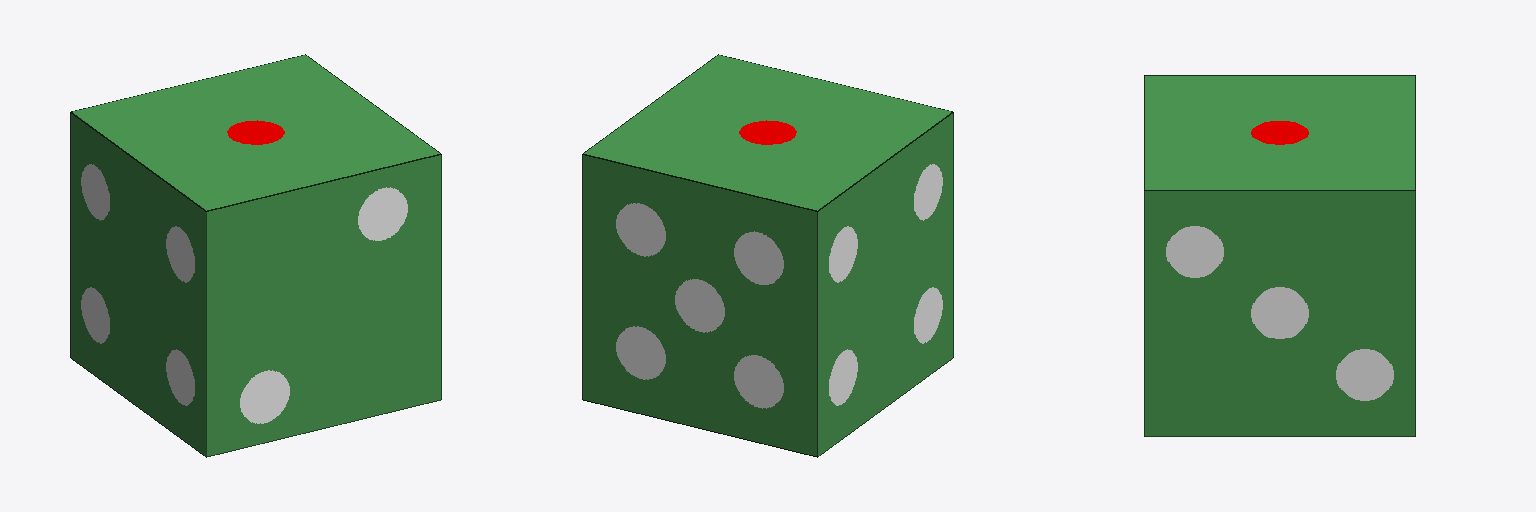
3 views of the same model, side by side, from view 1: azimuth 30°, elevation 25°; view 2: azimuth 150°, elevation 25°; view 3: azimuth 270°, elevation 25° (orthographic).
Parts seen in each view (by area): view 1: Cube; view 2: Cube; view 3: Cube.
Boxes of the visible parts, x1,y1,x2,y2 form: Cube: [70, 54, 441, 457]; Cube: [582, 54, 953, 457]; Cube: [1144, 75, 1415, 436].
Bounding box in the file's own units: 2 × 2 × 2.
Materials: 1 (1 with a texture image).